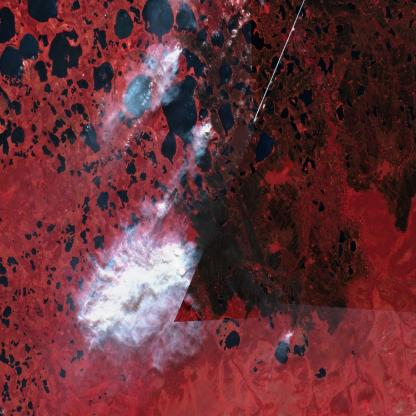fire: (162, 174, 212, 324), (272, 316, 303, 362), (198, 107, 228, 147), (165, 25, 190, 63)
